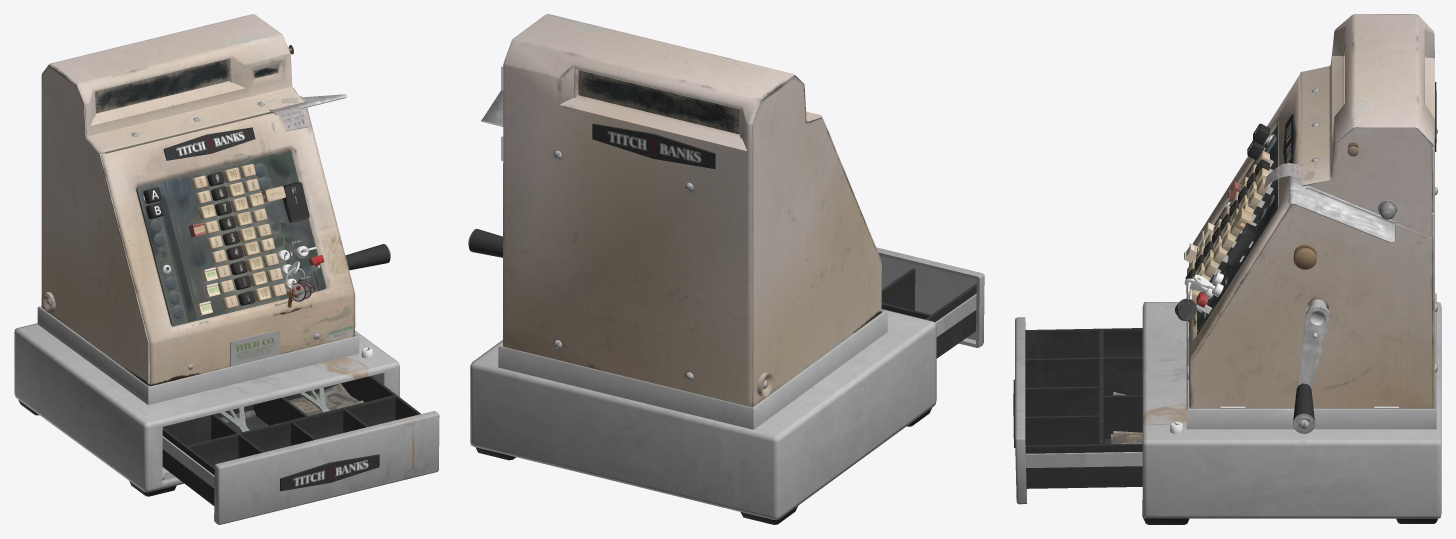
Rendered from modelo.glb.
3 renders of one model, left to right at view 1: azimuth 30°, elevation 25°; view 2: azimuth 150°, elevation 25°; view 3: azimuth 270°, elevation 25°, orthographic. The views are drawn at different scales.
Visible parts, largest first — view 1: CashRegister_01_body, CashRegister_011_drawer; view 2: CashRegister_01_body, CashRegister_011_drawer; view 3: CashRegister_01_body, CashRegister_011_drawer.
Part boxes in pixels (x1,y1,x2,y2): CashRegister_01_body: [14, 14, 399, 496]; CashRegister_011_drawer: [162, 376, 439, 524]; CashRegister_01_body: [468, 14, 936, 524]; CashRegister_011_drawer: [876, 247, 984, 358]; CashRegister_01_body: [1142, 14, 1441, 524]; CashRegister_011_drawer: [1013, 317, 1142, 504].
Size of the model in its own units: 0.6005 by 0.6214 by 0.6242.
2 materials, 2 textured.
